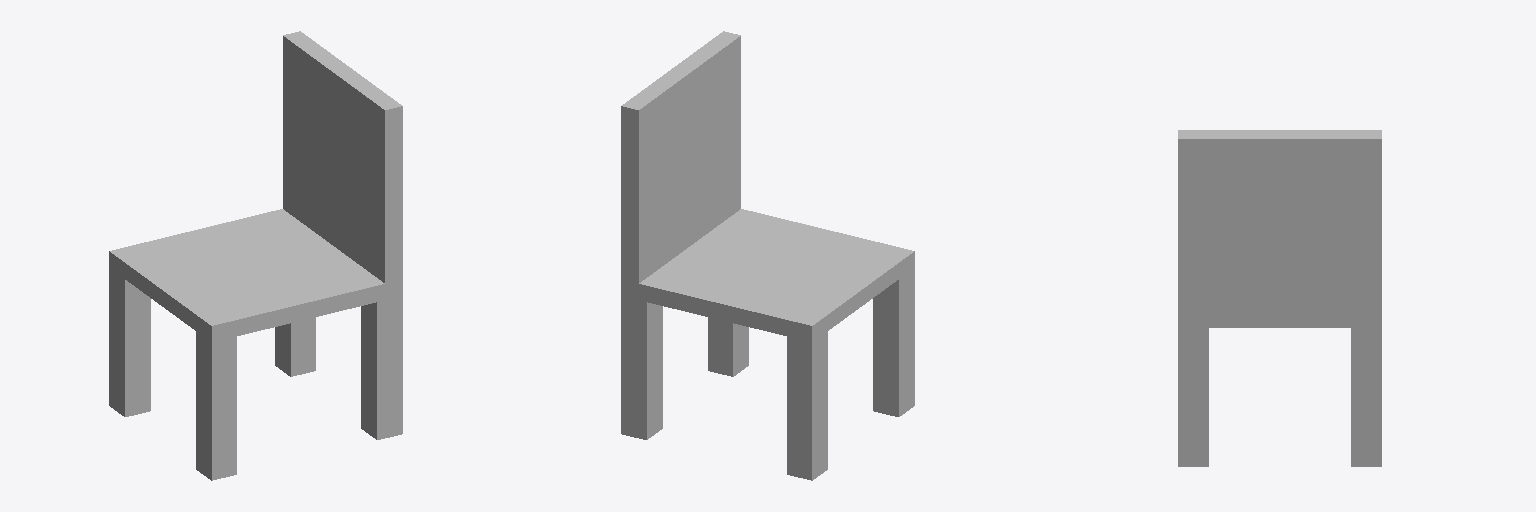
The model's file is Silla.obj.
3 views of the same model, side by side, from view 1: azimuth 30°, elevation 25°; view 2: azimuth 150°, elevation 25°; view 3: azimuth 270°, elevation 25° (orthographic).
Visible parts, largest first — view 1: object 1; view 2: object 1; view 3: object 1.
Boxes of the visible parts, x1,y1,x2,y2 form: object 1: [109, 31, 402, 480]; object 1: [621, 31, 914, 480]; object 1: [1178, 130, 1381, 466].
Size of the model in its own units: 9.7 by 15.9 by 9.